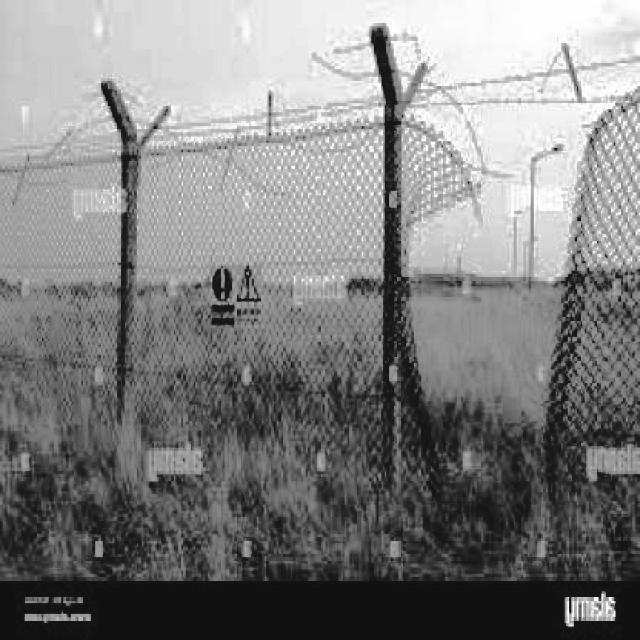anomaly-fence: (380, 60, 611, 511)
